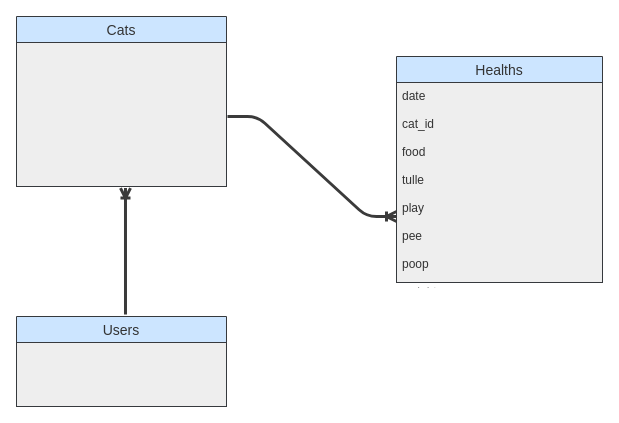
This 619x423 diagram has some shape labels left out. The shapes that lost their labels are listed below. From the top down, each one's centre as x and y in pixels, then its label:
At (121,114): "name birthday gender favorite user_id".
At (121,374): "mail password".
